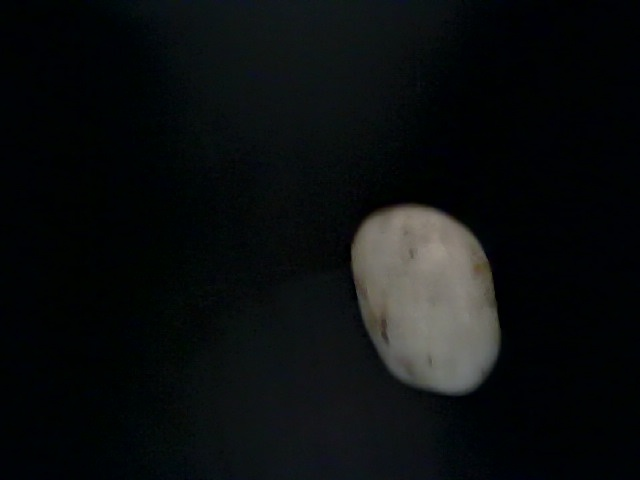QTLJ: (422, 291, 600, 480)
